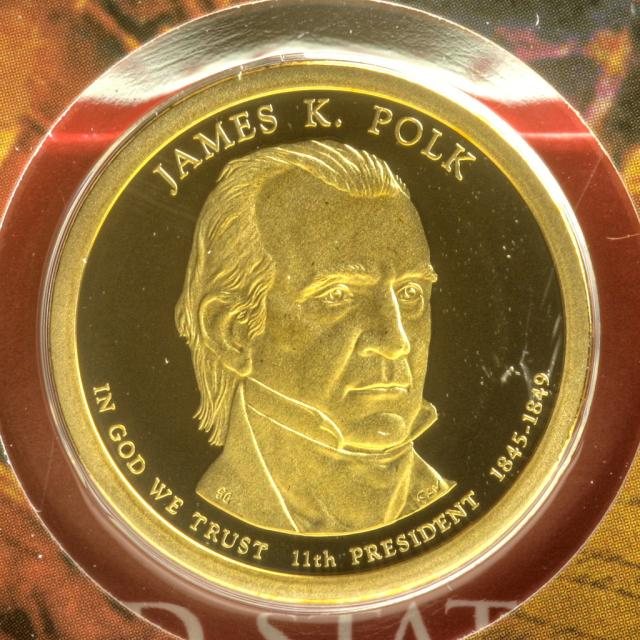Coin: (49, 60, 596, 603)
